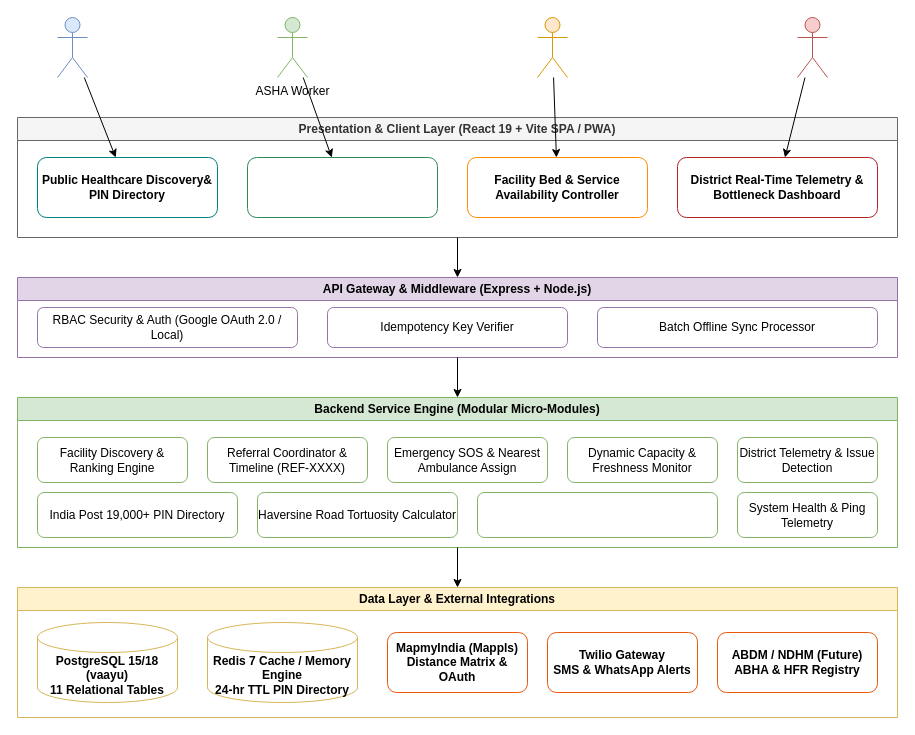
This 915x735 diagram has some shape labels left out. The centre of each missing label's shape, as x and y in pixels:
"ASHA Offline Workspace& Outbox Sync (IndexedDB)" goes at [342,187].
"Crowdsourced Feedback & Discrepancy Moderation" goes at [597,515].
"District Administrator" goes at [812,47].
"Facility Staff (PHC/CHC)" goes at [552,47].
"Patient / Citizen" goes at [72,47].
